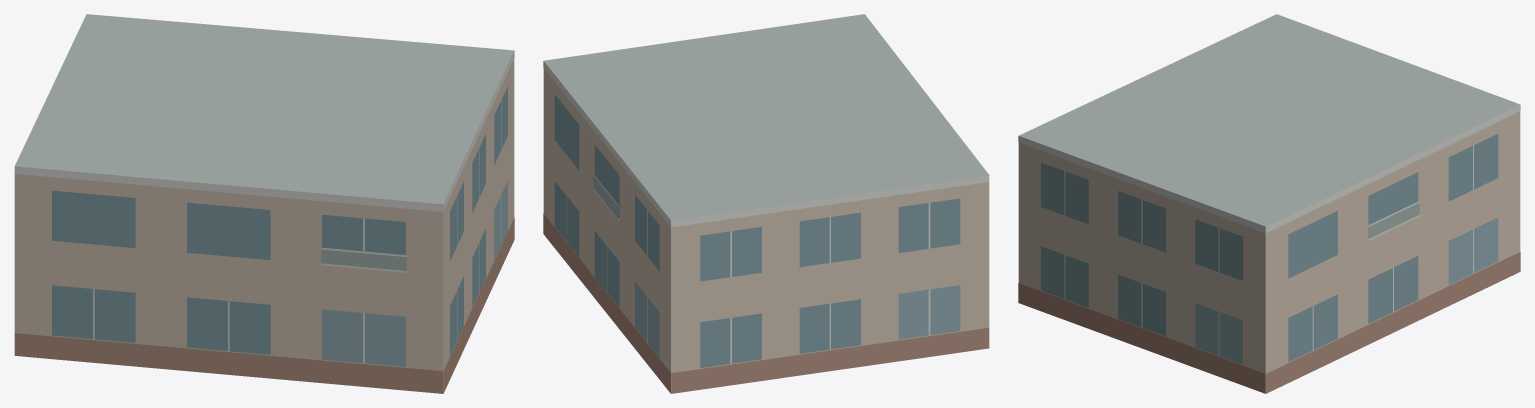
The model's file is survey-upis-32606338.glb.
The picture shows the model from 3 angles, left to right: view 1: azimuth 30°, elevation 25°; view 2: azimuth 150°, elevation 25°; view 3: azimuth 270°, elevation 25°; orthographic projection. The views are drawn at different scales.
Visible parts, largest first — view 1: survey-upis-32606338.tmp; view 2: survey-upis-32606338.tmp; view 3: survey-upis-32606338.tmp.
Part boxes in pixels (left/top/right/bottom): survey-upis-32606338.tmp: left=14, top=14, right=514, bottom=393; survey-upis-32606338.tmp: left=543, top=14, right=989, bottom=393; survey-upis-32606338.tmp: left=1018, top=14, right=1520, bottom=393.
Size of the model in its own units: 16.64 by 6.1 by 16.6.
